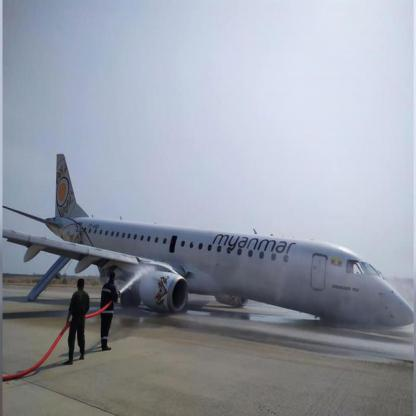CIV_Plane: (1, 148, 415, 331)
